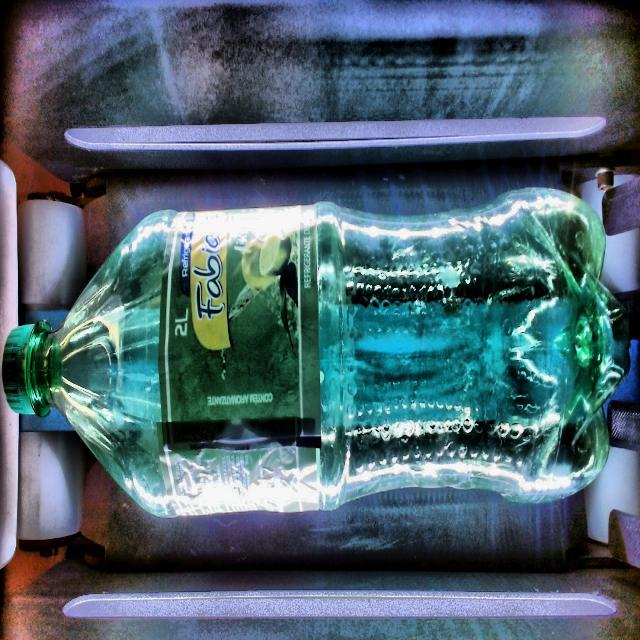bottom: (321, 189, 626, 507)
label: (159, 207, 321, 516)
neck: (2, 211, 175, 516)
